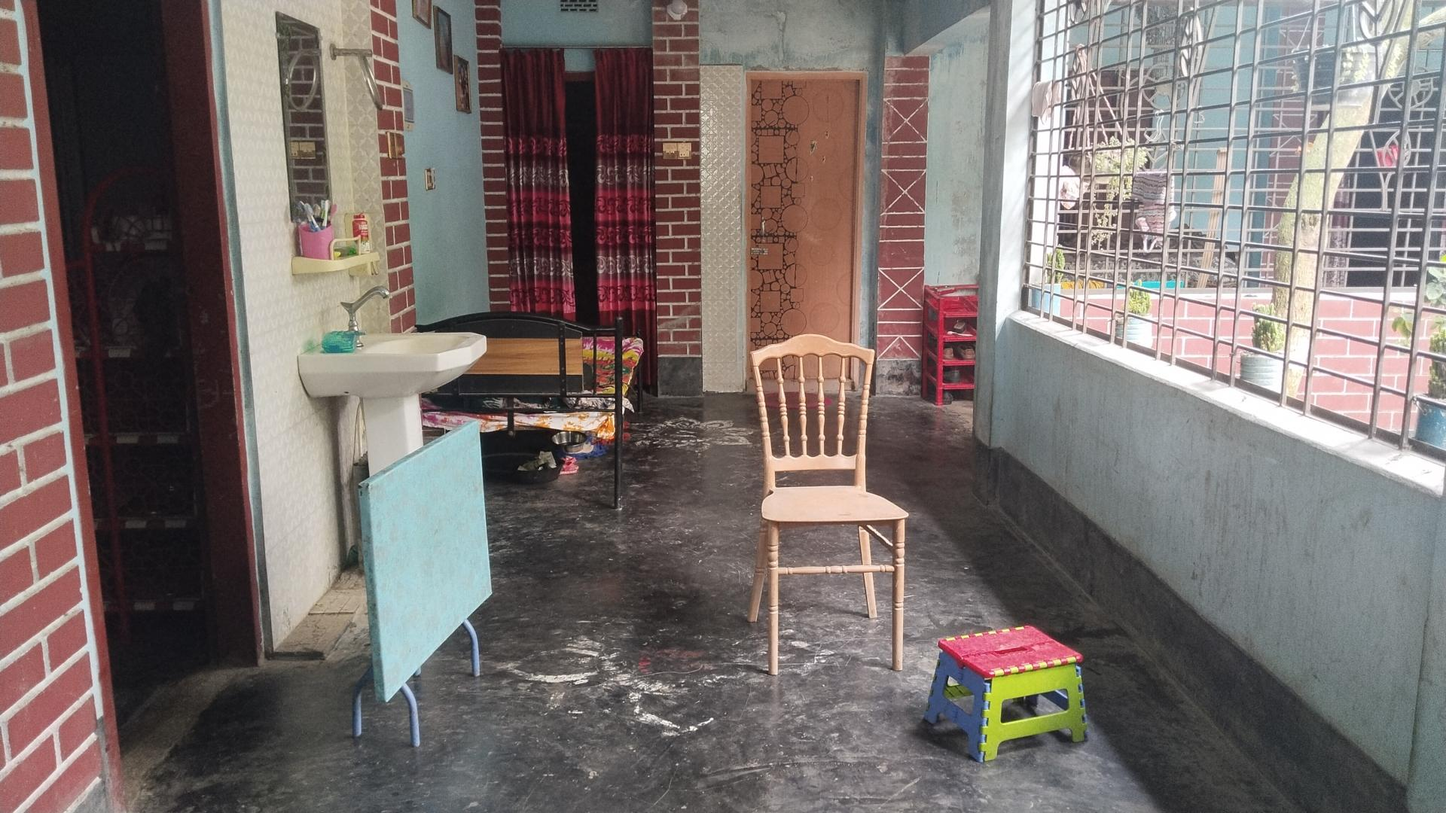Chair: (755, 328, 908, 672)
Door: (743, 74, 857, 390)
Stool: (933, 622, 1095, 763)
Table: (357, 426, 496, 735)
